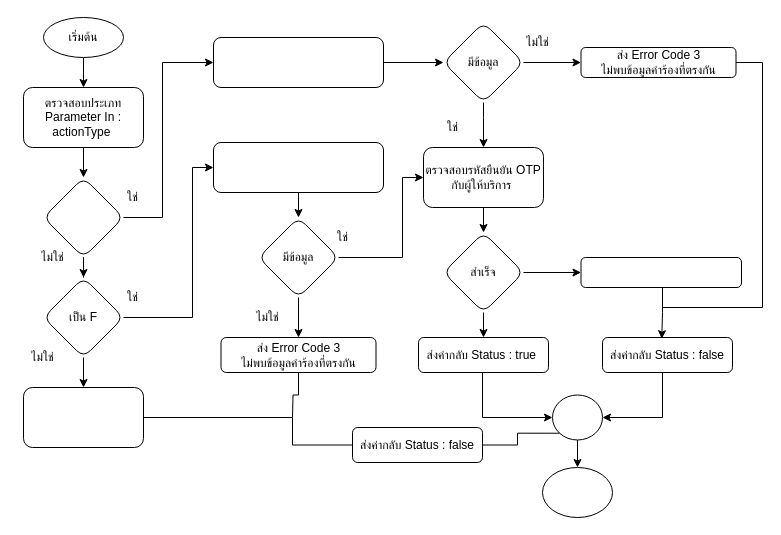
The diagram is 781 pixels wide and 535 high, and some of its shapes have lost their labels. Each missing label, with the box of its shape:
ค้นหาข้อมูลใน Table Request Temp ที่ verifyToken ตรงกัน: (212, 36, 384, 88)
ค้นหาข้อมูลใน Table Request ที่ verifyToken ตรงกัน: (212, 142, 384, 192)
สิ้นสุด: (542, 466, 612, 518)
ส่ง Error Code 1 ไม่สามารถยืนยัน OTP: (580, 256, 742, 288)
ส่ง Error code 2 ข้อมูลประเภทไม่ถูกต้อง: (22, 386, 144, 448)
เป็น R: (42, 176, 124, 258)
